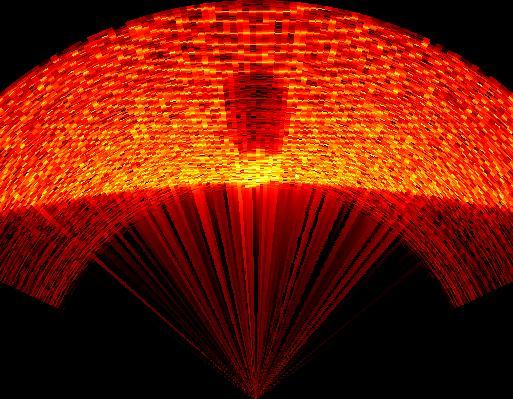box_crate: (222, 60, 295, 161)
